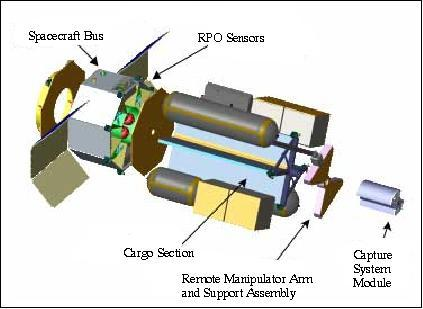body: (67, 67, 140, 173), (357, 177, 406, 217)
solar: (31, 149, 91, 209), (31, 99, 91, 149), (116, 29, 170, 75), (30, 122, 69, 181), (118, 49, 150, 80)
